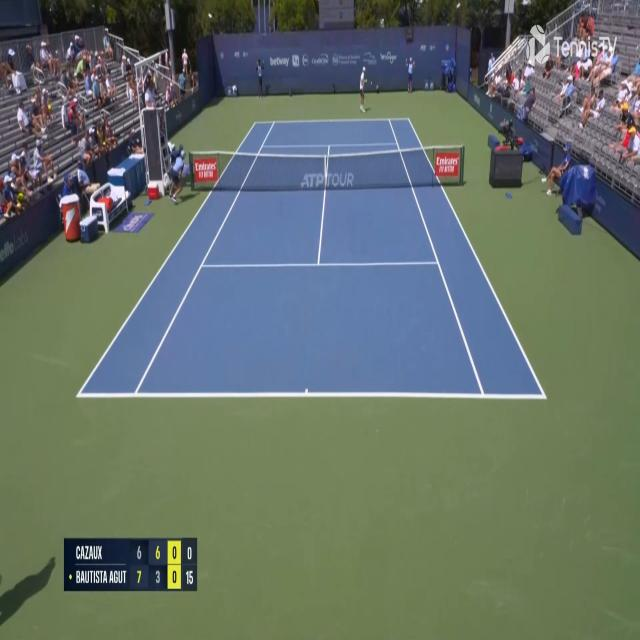tennis-player: (358, 64, 369, 112)
